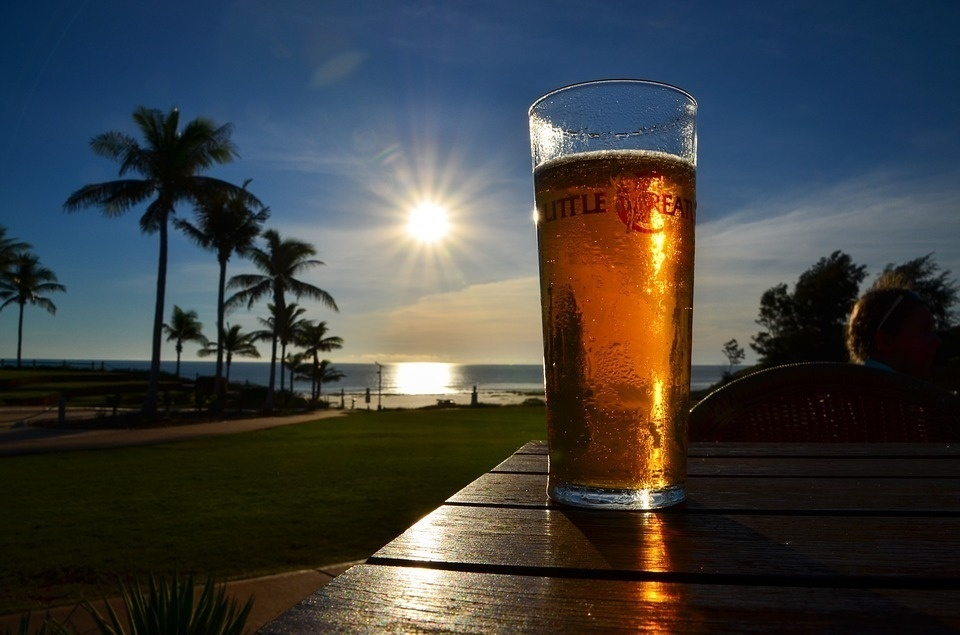whiskey: (526, 91, 704, 503)
